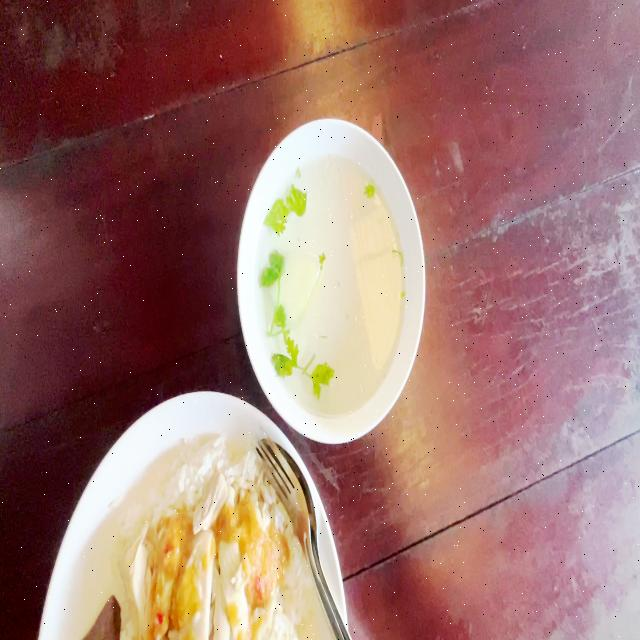boiled_chicken: (134, 481, 276, 640)
boiled_chicken_blood_jelly: (82, 588, 120, 640)
chicken_rice: (81, 439, 304, 640)
